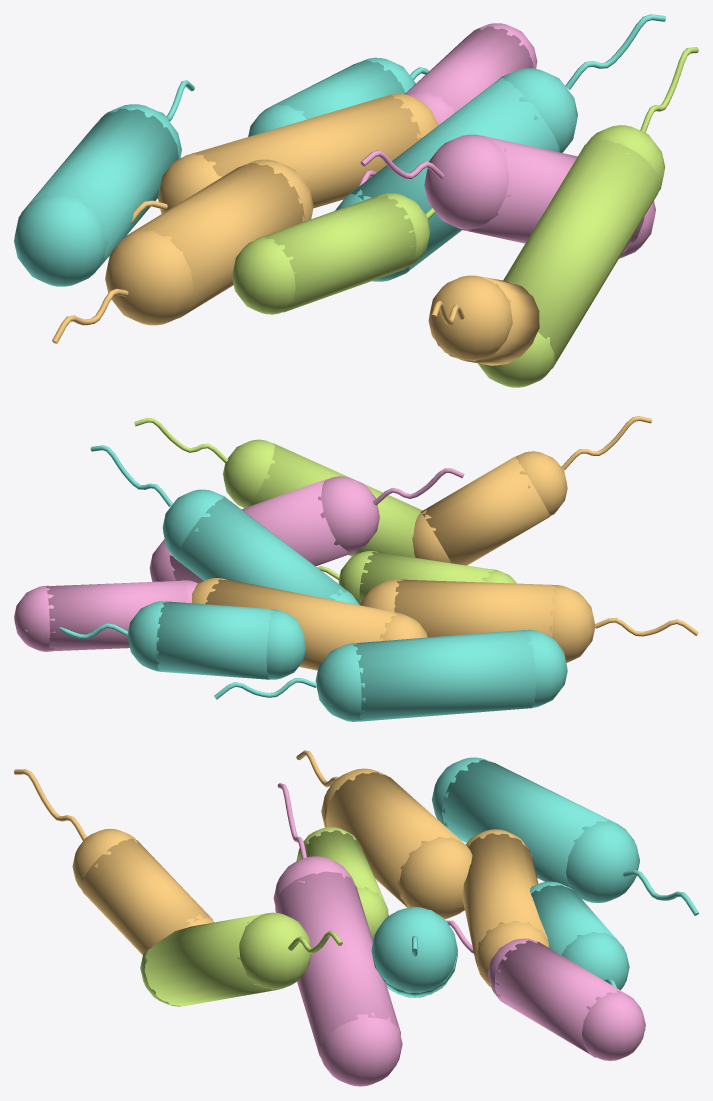
Rendered from E18_Bacteria_Colony.glb.
The picture shows the model from 3 angles, top to bottom: view 1: azimuth 30°, elevation 25°; view 2: azimuth 150°, elevation 25°; view 3: azimuth 270°, elevation 25°; orthographic projection. The views are drawn at different scales.
Visible parts, largest first — view 1: E18_Bacteria_Colony_Mesh; view 2: E18_Bacteria_Colony_Mesh; view 3: E18_Bacteria_Colony_Mesh.
Part boxes in pixels (left/top/right/bottom): E18_Bacteria_Colony_Mesh: left=14, top=14, right=698, bottom=387; E18_Bacteria_Colony_Mesh: left=14, top=416, right=698, bottom=721; E18_Bacteria_Colony_Mesh: left=14, top=750, right=698, bottom=1086.
Size of the model in its own units: 3.75 by 1.1 by 3.74.
